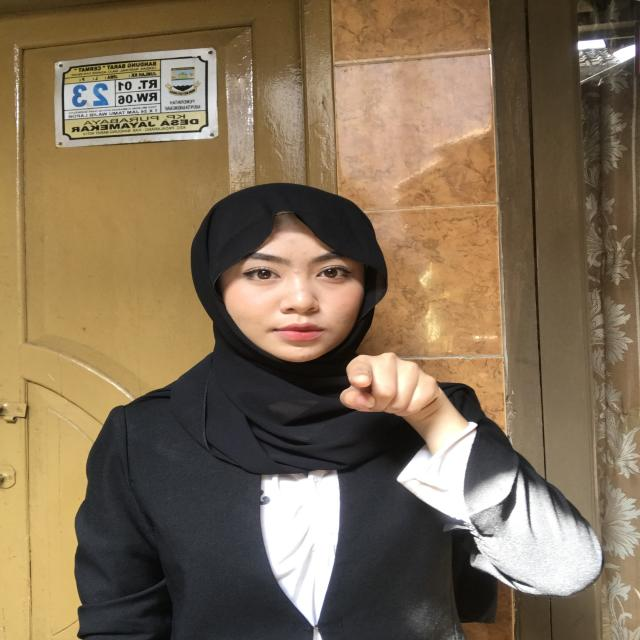kamu: (290, 334, 491, 444)
